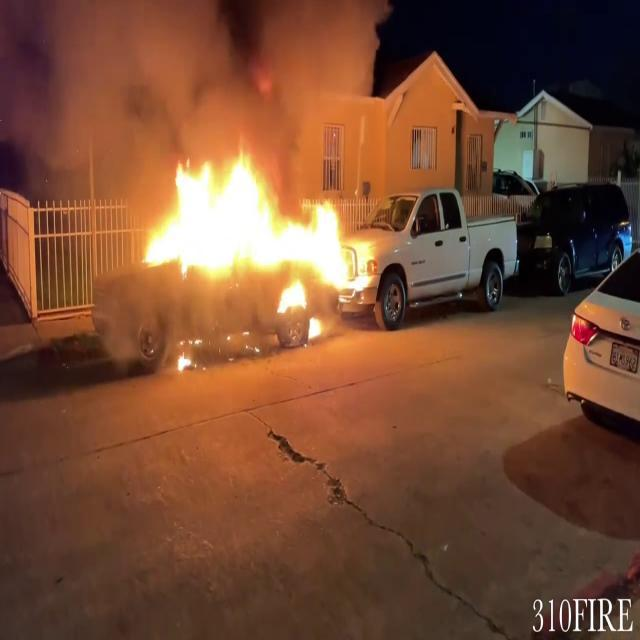Fire: (136, 140, 374, 302)
Smoke: (14, 0, 386, 160)
